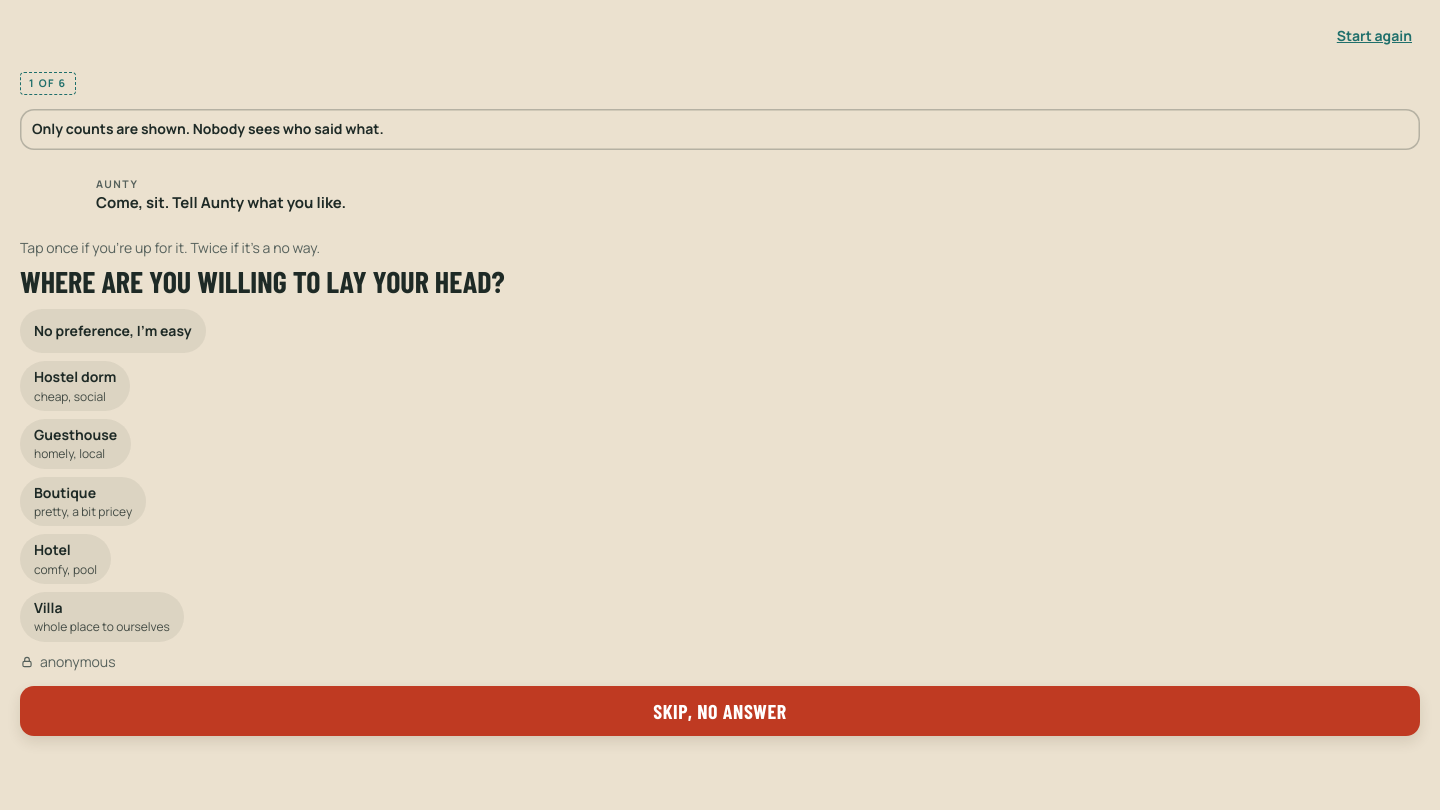
it: six budget bands › shows the six band chips plus the four stretch chips on one card, single choice
Click the button "Skip, no answer".
click(720, 711)  # box [20,686,1420,736]
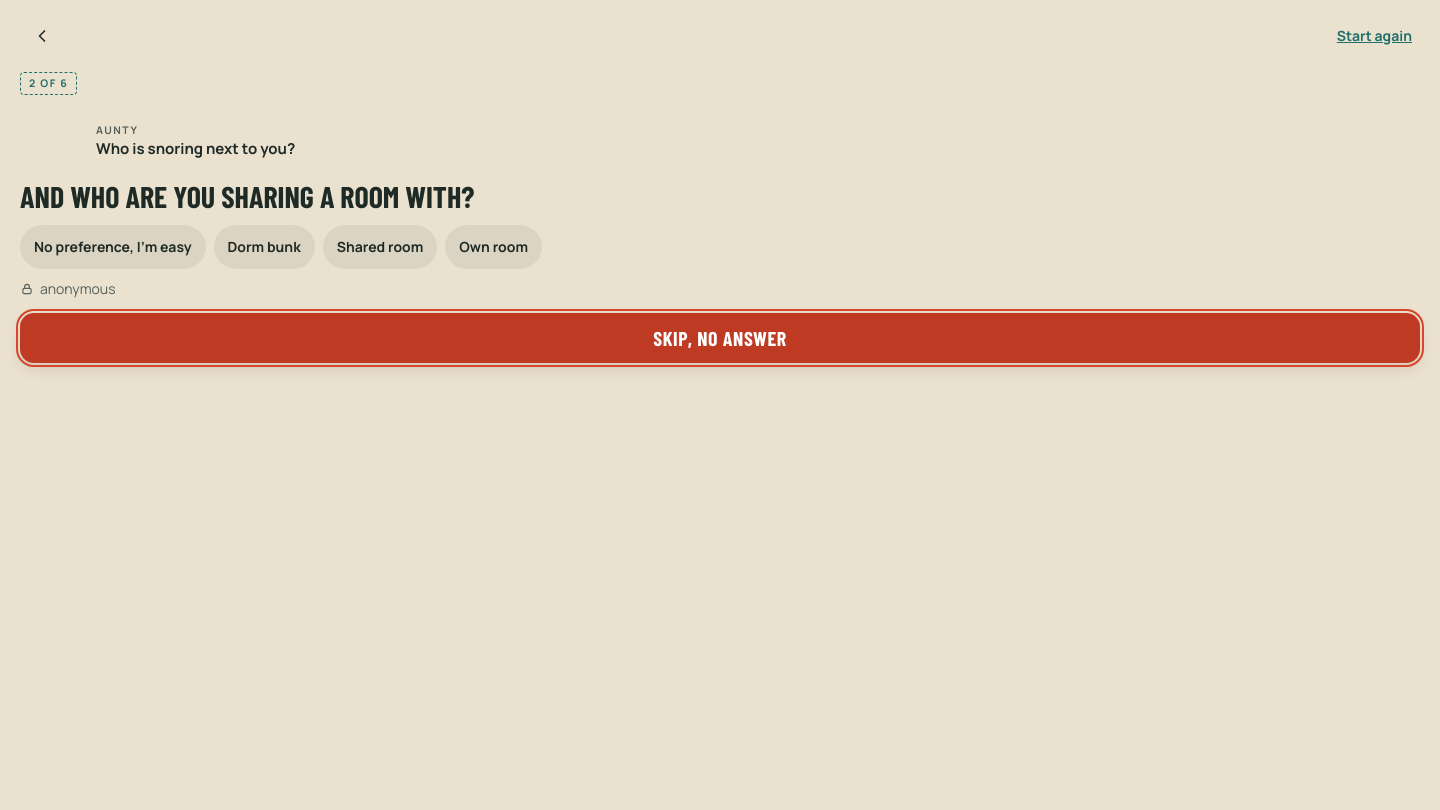
Click the button "Skip, no answer".
click(720, 338)  # box [20,313,1420,363]
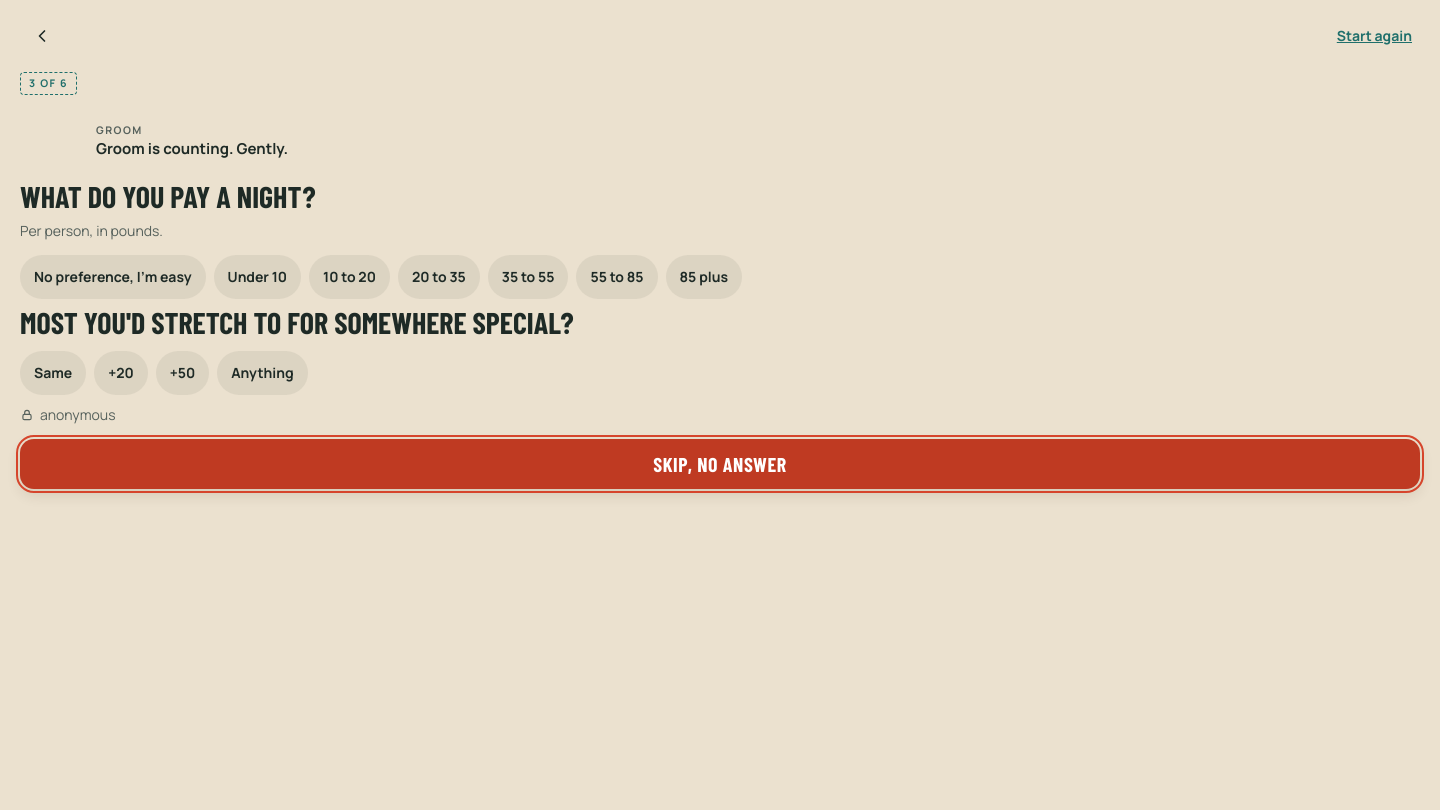
expect the text "Most you'd stretch to for somewhere special?" is shown: met, box [20,304,574,340]
expect the button named "Stretch +20, not picked" is shown: met, box [94,351,148,395]
expect the button named "Stretch +50, not picked" is shown: met, box [156,351,209,395]
Click the button with aria-label "55 to 85, not picked".
click(617, 277)  # box [576,255,658,299]
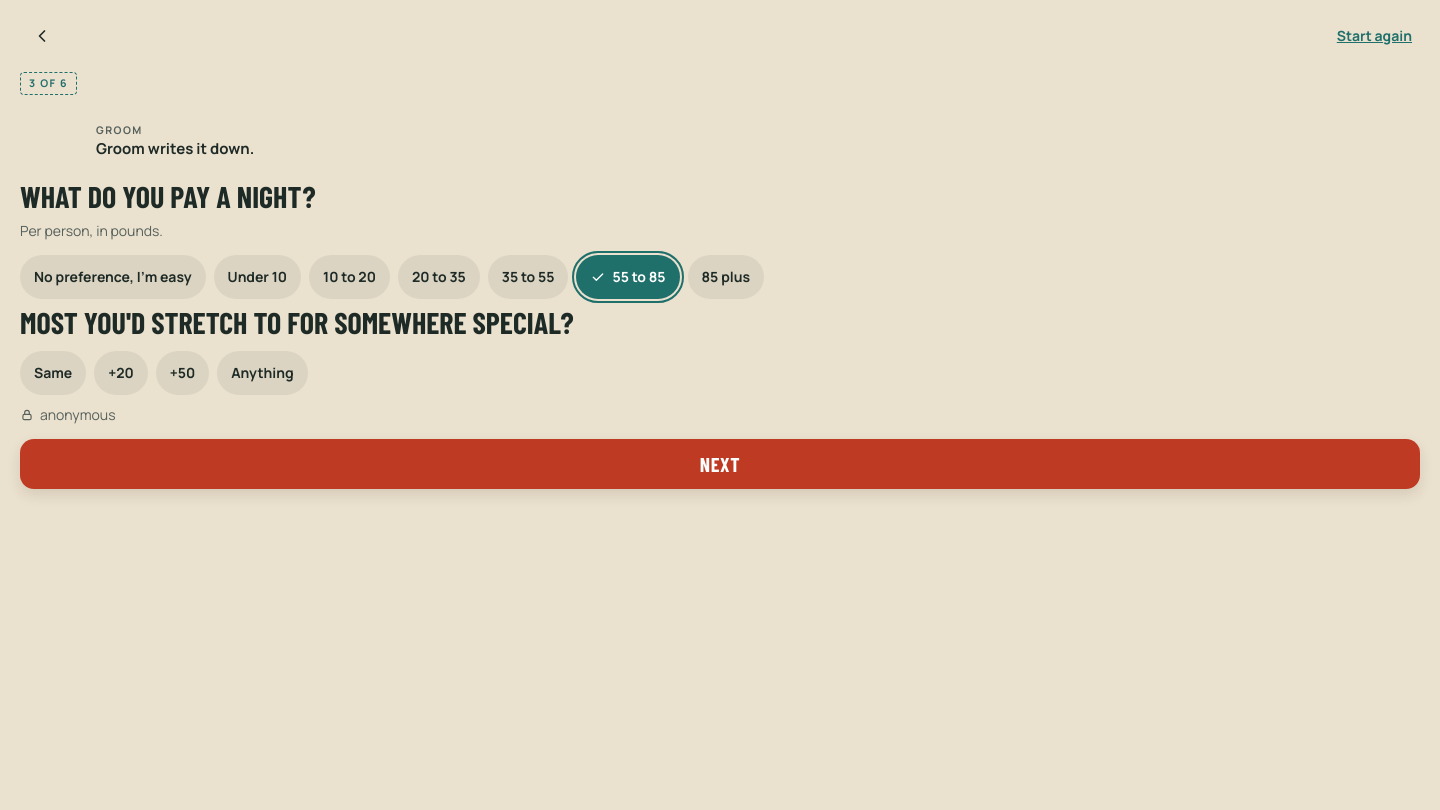
Click the button with aria-label "85 plus, not picked".
click(726, 277)  # box [688,255,764,299]
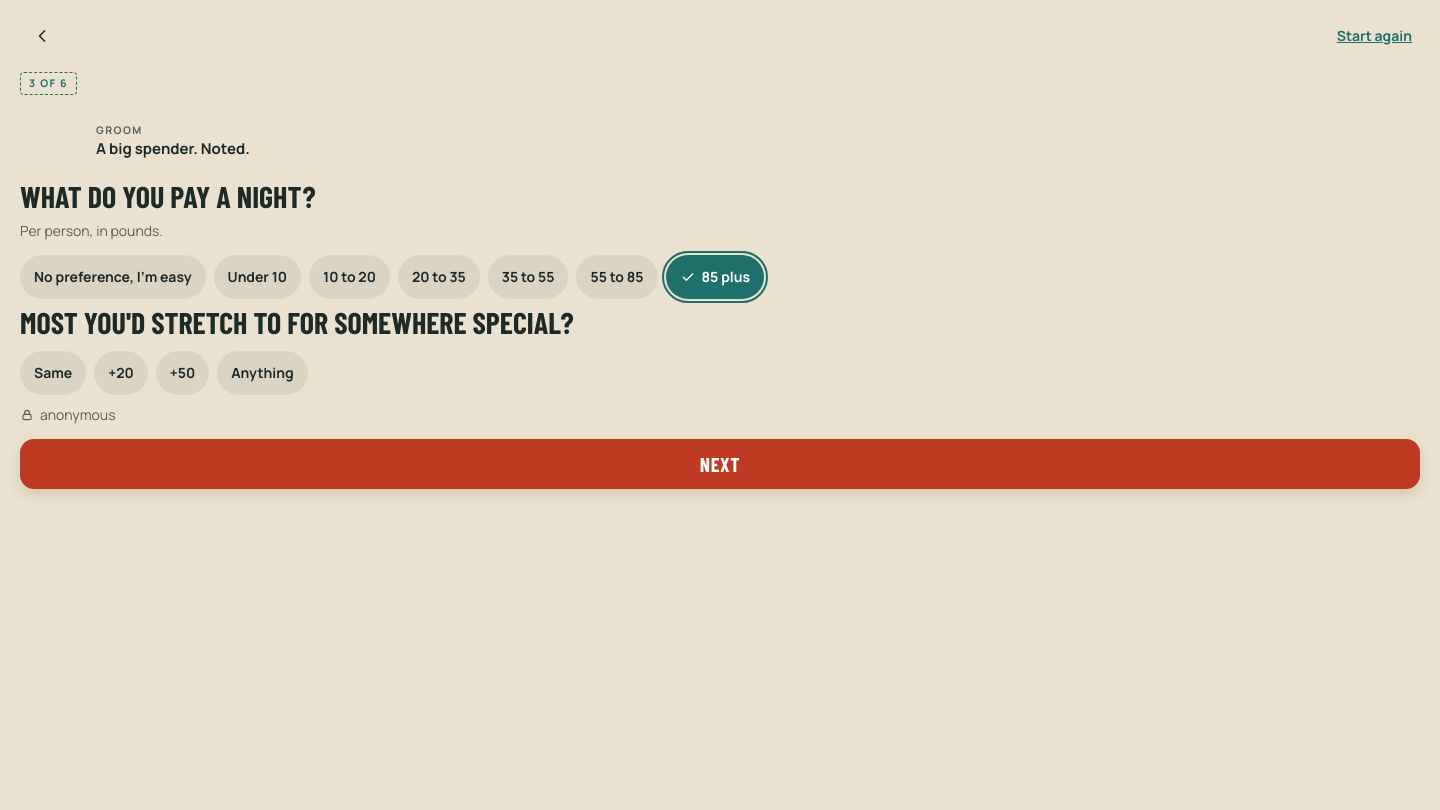
expect the button with aria-label "55 to 85, not picked" is shown: met, box [576,255,658,299]
expect the button with aria-label "85 plus, picked" is shown: met, box [666,255,764,299]
